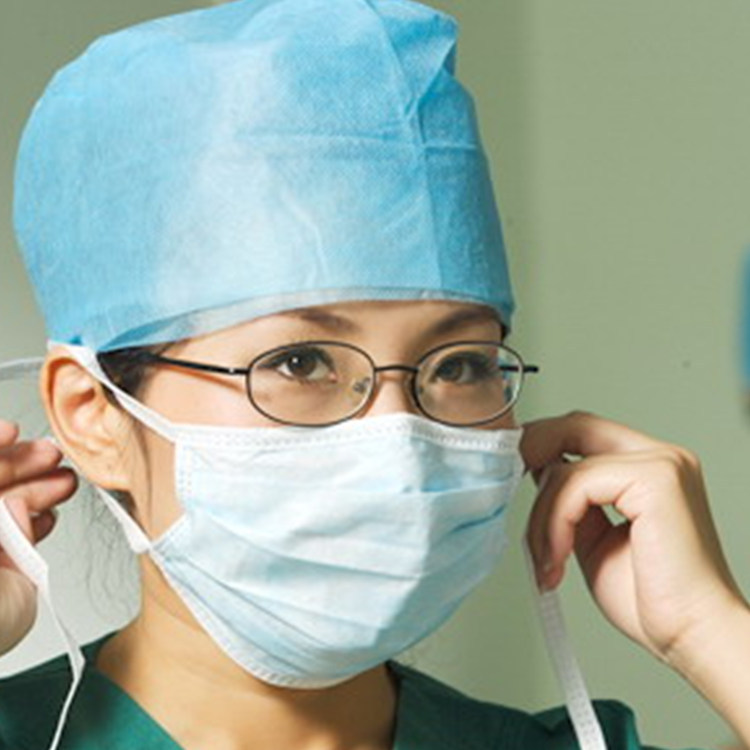face_mask: (152, 235, 519, 646)
